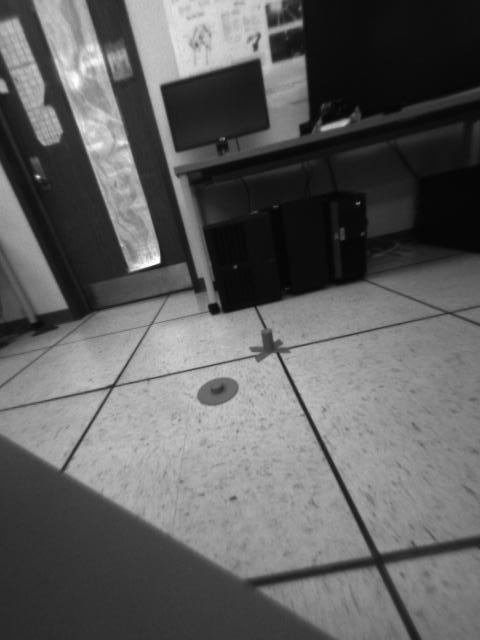X: (249, 328, 289, 363)
